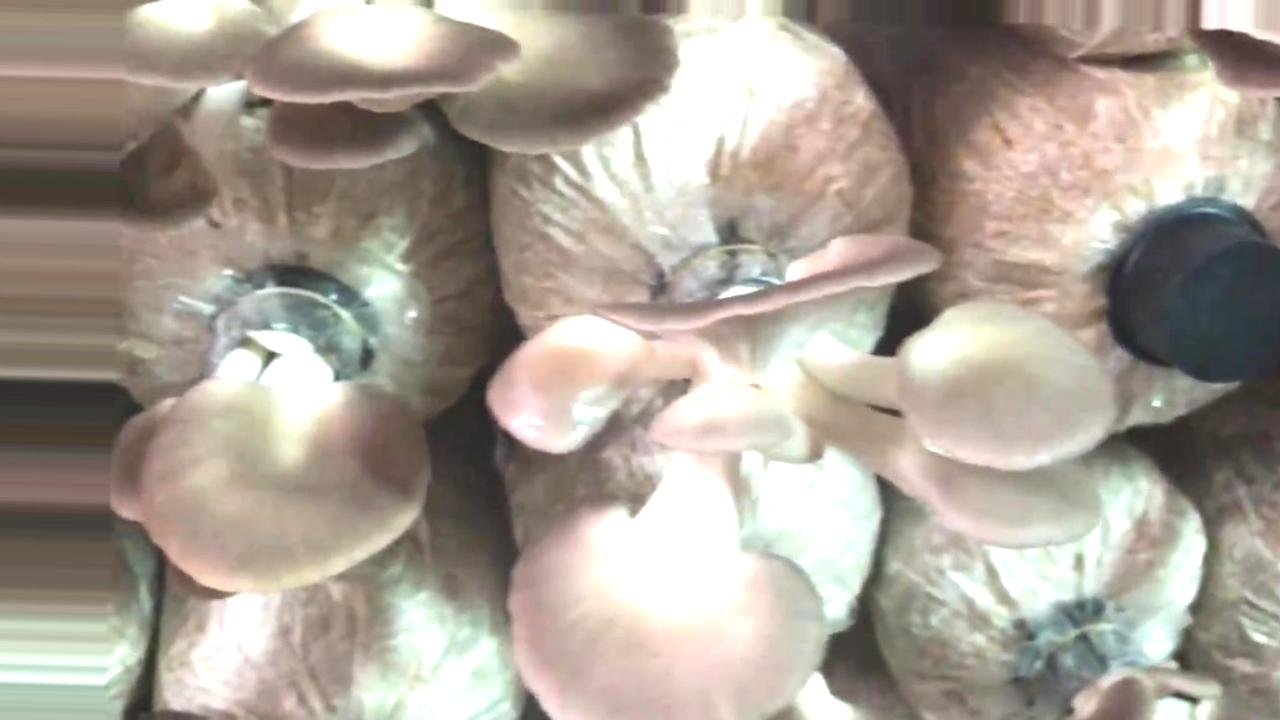nam: (509, 238, 1109, 720), (109, 271, 425, 602), (125, 1, 675, 177)
